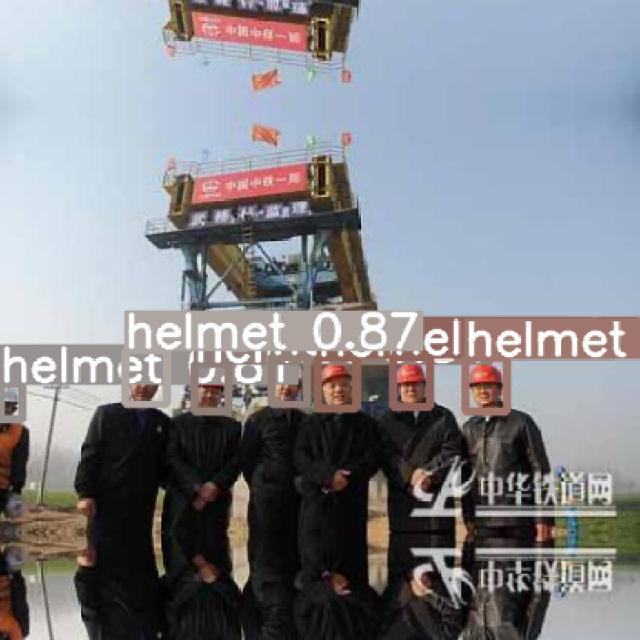red helmet: (316, 356, 364, 411), (384, 359, 434, 411), (469, 361, 509, 423)
